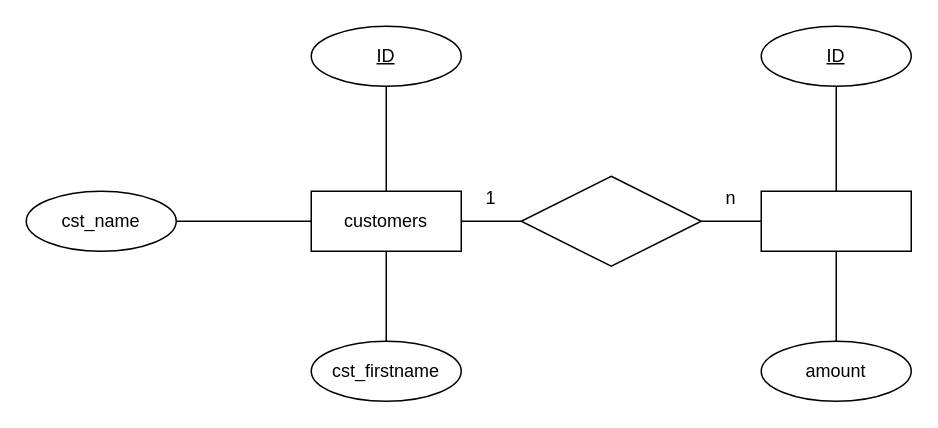
Image size: 938x428. Some labels were removed from this diagram. Here are the shapes that lost their labels. From the top down, the box of each, then its label:
(520, 175, 701, 266): has
(760, 190, 911, 251): orders
